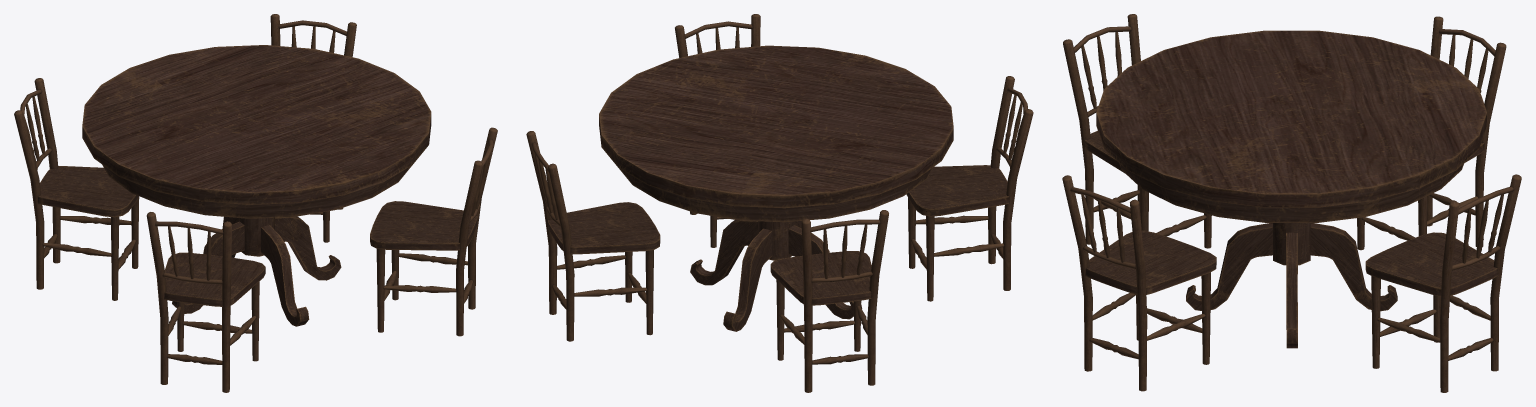
File: mesa_jantar.glb
The picture shows the model from 3 angles, left to right: view 1: azimuth 30°, elevation 25°; view 2: azimuth 150°, elevation 25°; view 3: azimuth 270°, elevation 25°; orthographic projection. The views are drawn at different scales.
Visible parts, largest first — view 1: Round_table, Chair02, Chair01, Chair, Chair03; view 2: Round_table, Chair02, Chair01, Chair03, Chair; view 3: Round_table, Chair03, Chair, Chair02, Chair01.
Part boxes in pixels (<box>): Round_table: <box>82,45,431,326</box>; Chair02: <box>146,212,265,392</box>; Chair01: <box>14,78,139,300</box>; Chair: <box>370,127,497,336</box>; Chair03: <box>270,14,356,242</box>; Round_table: <box>599,45,953,331</box>; Chair02: <box>906,76,1033,301</box>; Chair01: <box>770,210,888,392</box>; Chair03: <box>526,131,660,341</box>; Chair: <box>675,14,760,247</box>; Round_table: <box>1096,30,1486,348</box>; Chair03: <box>1365,174,1521,392</box>; Chair: <box>1062,175,1216,391</box>; Chair02: <box>1063,14,1211,248</box>; Chair01: <box>1357,16,1506,250</box>.
Bounding box in the file's own units: 1.66 × 0.7981 × 1.68.
Materials: 2 (2 with a texture image).
